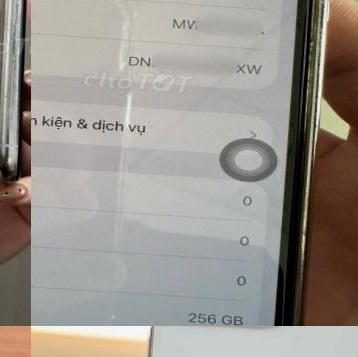scratch: (0, 0, 30, 175)
